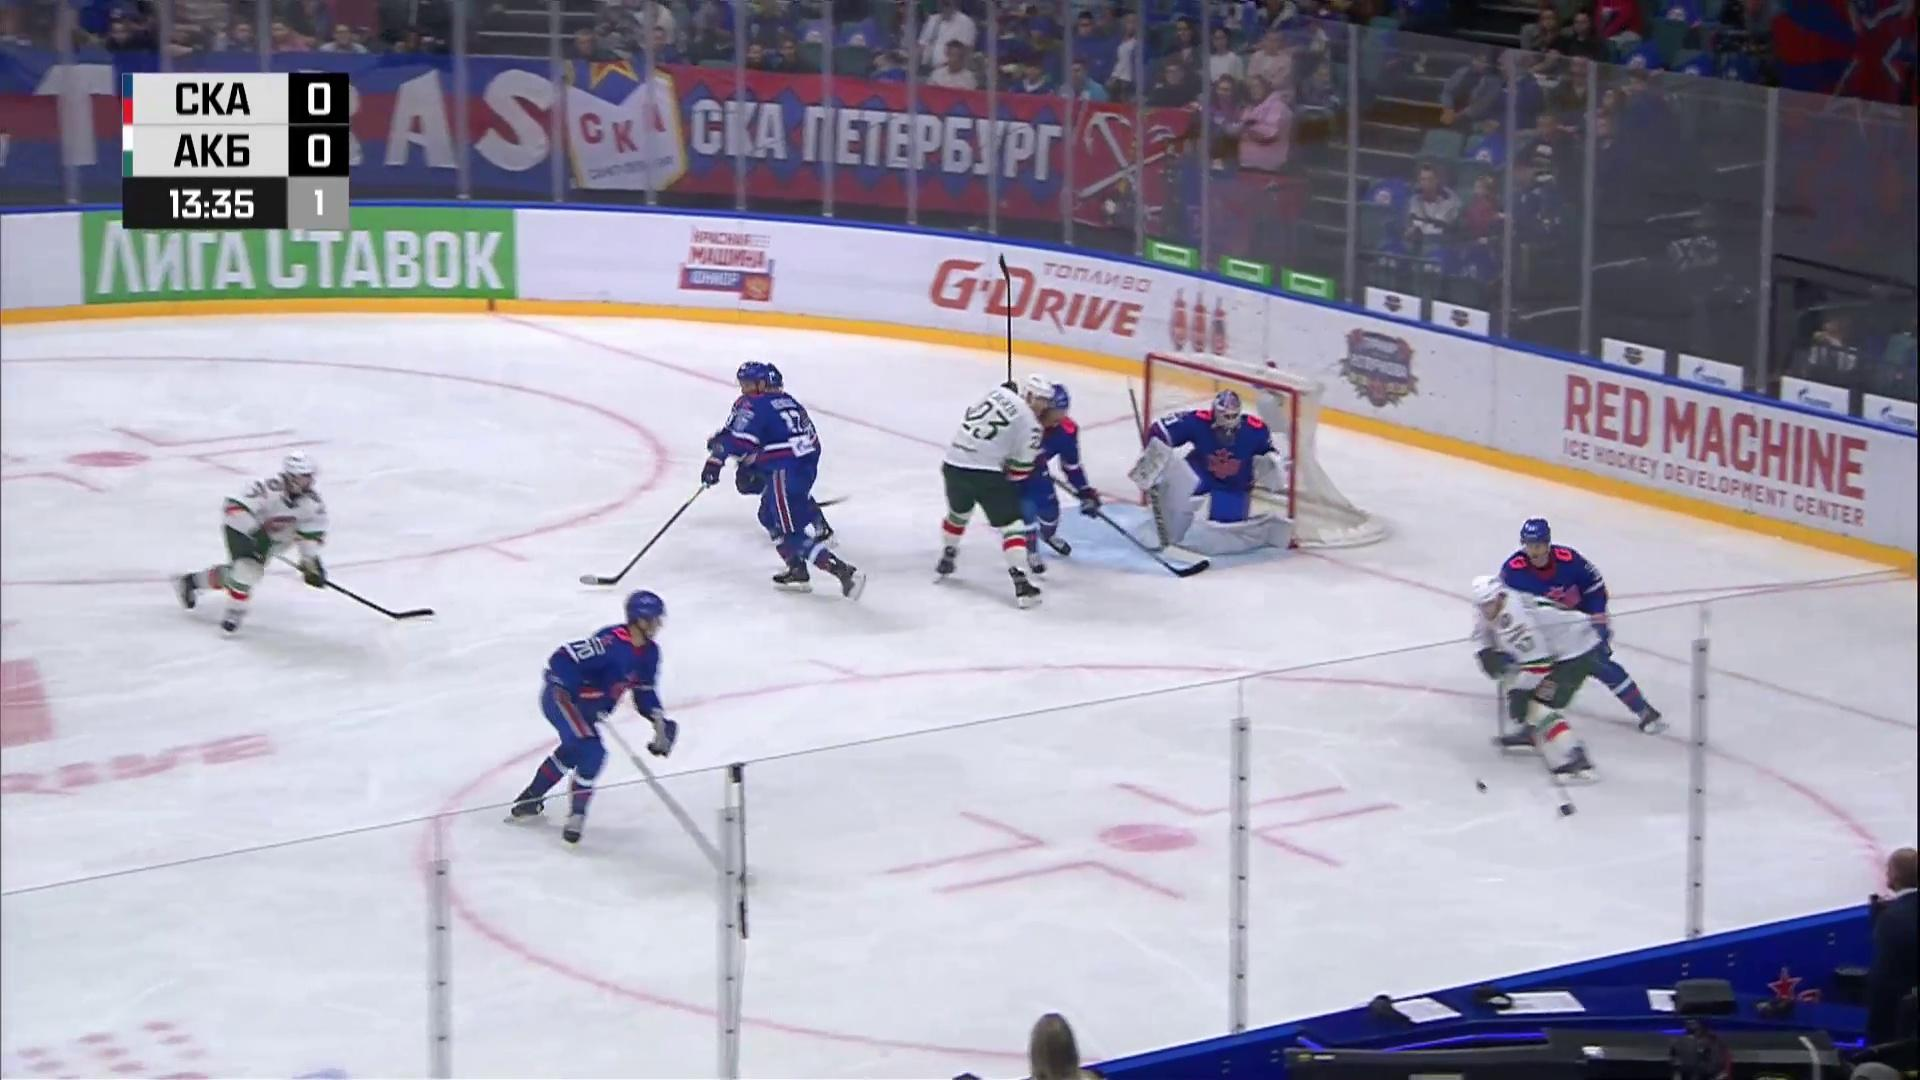ball: (1474, 777, 1489, 793)
